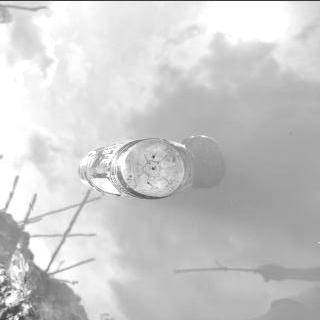bottle: (72, 136, 194, 202)
